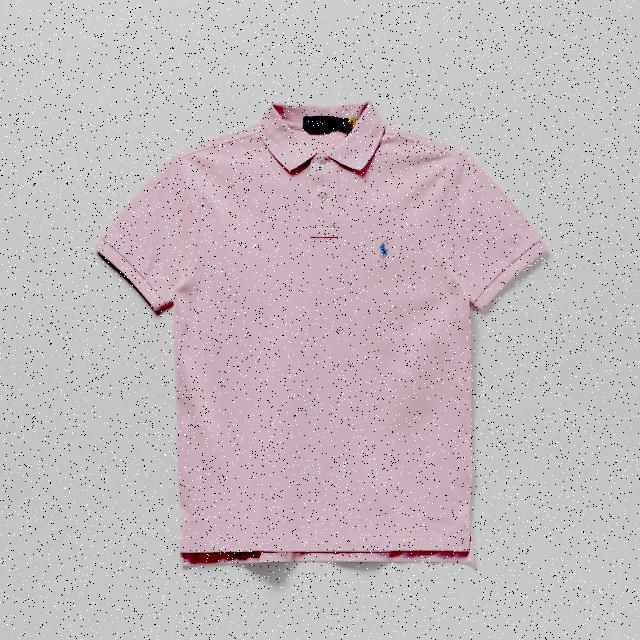dress: (104, 86, 540, 574)
